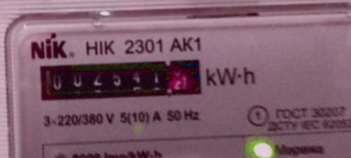0: (48, 68, 62, 90), (69, 66, 82, 87)
1: (148, 64, 160, 84)
2: (89, 66, 102, 86)
4: (129, 64, 142, 85)
5: (108, 64, 121, 87)
6: (171, 75, 182, 91)
screen: (28, 48, 212, 108)
